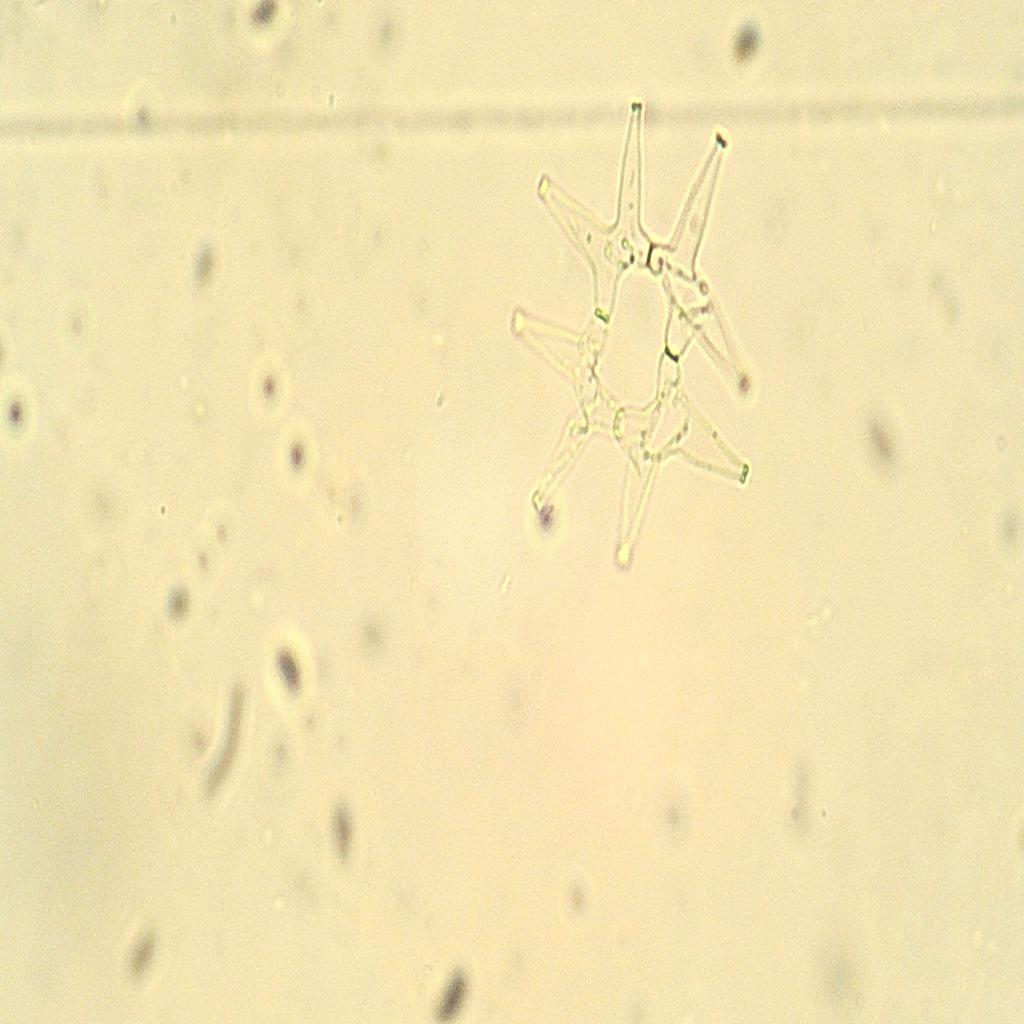Pediastrum_1F0: (476, 88, 804, 592)
